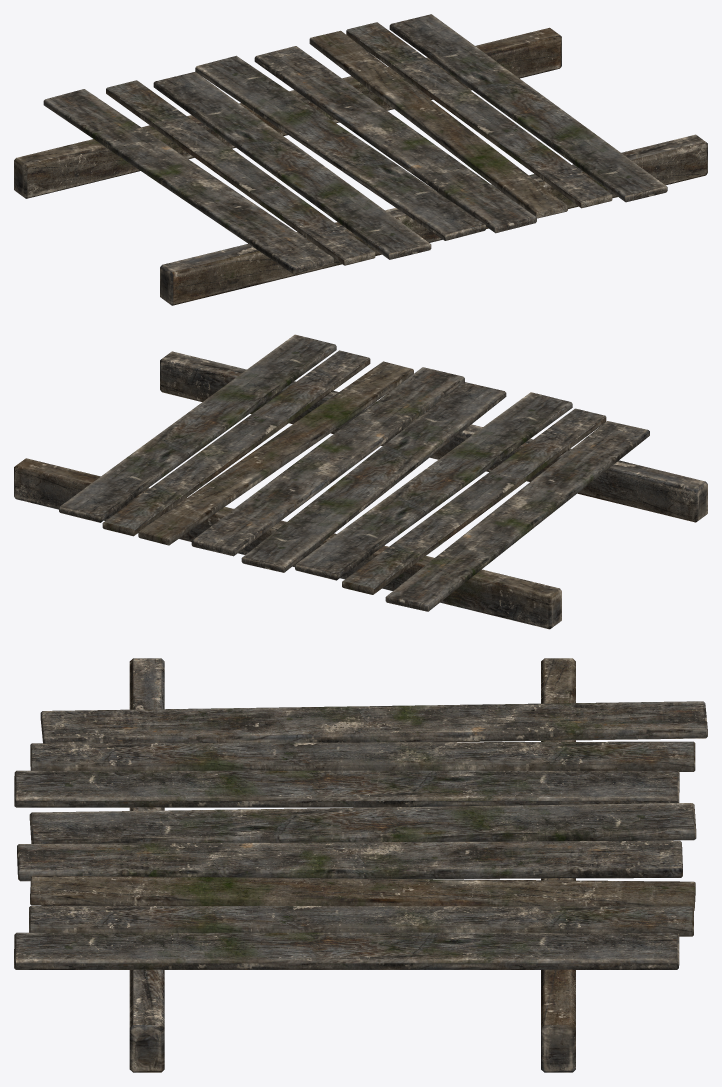
Rendered from Wood_Platform_Simple_A.fbx.
3 views of the same model, one above another, from view 1: azimuth 30°, elevation 25°; view 2: azimuth 150°, elevation 25°; view 3: azimuth 270°, elevation 25° (orthographic). The views are drawn at different scales.
Visible parts, largest first — view 1: Wood_Platform_Simple_A_LOD0; view 2: Wood_Platform_Simple_A_LOD0; view 3: Wood_Platform_Simple_A_LOD0.
Part boxes in pixels (left/top/right/bottom): Wood_Platform_Simple_A_LOD0: left=14, top=14, right=707, bottom=305; Wood_Platform_Simple_A_LOD0: left=14, top=334, right=707, bottom=629; Wood_Platform_Simple_A_LOD0: left=14, top=658, right=707, bottom=1072.
Size of what is drawn, in the model's own units: 250 by 17.75 by 198.
